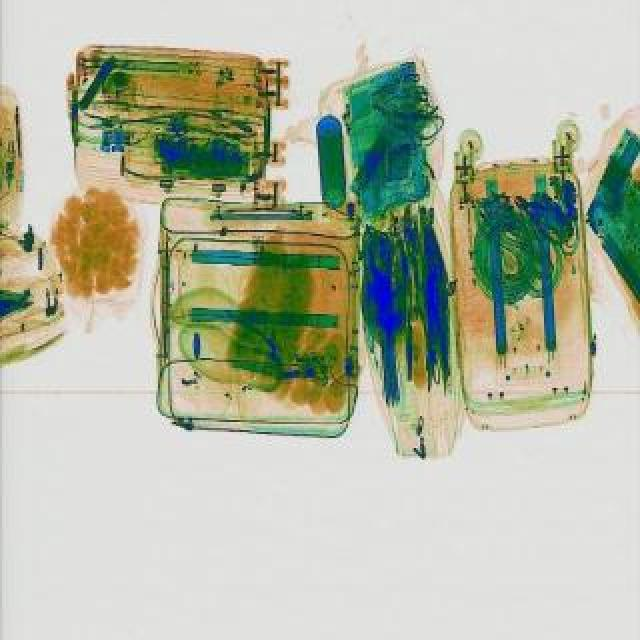wrench: (506, 188, 578, 248)
